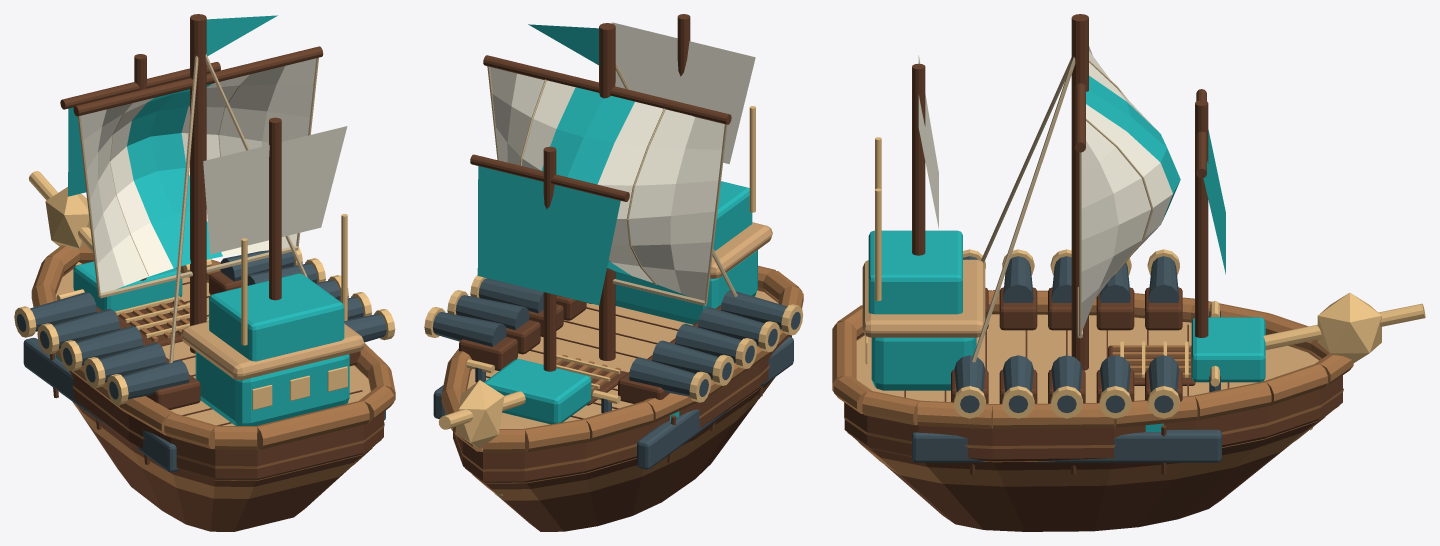
File: ship-stage-5.glb
3 renders of one model, left to right at view 1: azimuth 30°, elevation 25°; view 2: azimuth 150°, elevation 25°; view 3: azimuth 270°, elevation 25°, orthographic. The views are drawn at different scales.
Visible parts, largest first — view 1: Ship Sail ivory.004, Ship Walnut.004, Ship Team teal.004, Ship Hull amber.004, Ship Brass.004, Ship Honey teak.004, Ship Rope flax.004, Ship Cannon iron.004, Broadside barrel.020, Broadside barrel.021, Broadside barrel.023, Broadside barrel.024 (+8 smaller); view 2: Ship Sail ivory.004, Ship Walnut.004, Ship Team teal.004, Ship Hull amber.004, Ship Honey teak.004, Ship Brass.004, Ship Cannon iron.004, Ship Rope flax.004, Broadside barrel.029, Broadside barrel.028, Broadside barrel.024, Broadside barrel.022 (+8 smaller); view 3: Ship Walnut.004, Ship Hull amber.004, Ship Team teal.004, Ship Sail ivory.004, Ship Honey teak.004, Ship Brass.004, Ship Cannon iron.004, Ship Rope flax.004, Broadside barrel.024, Broadside barrel.021, Cannon carriage.021, Cannon carriage.023 (+9 smaller).
Boxes of the visible parts, x1,y1,x2,y2 form: Ship Sail ivory.004: [80, 58, 347, 292]; Ship Walnut.004: [49, 14, 383, 531]; Ship Team teal.004: [56, 15, 349, 425]; Ship Hull amber.004: [31, 245, 395, 498]; Ship Brass.004: [28, 171, 347, 432]; Ship Honey teak.004: [56, 263, 370, 425]; Ship Rope flax.004: [77, 53, 318, 363]; Ship Cannon iron.004: [23, 337, 385, 472]; Broadside barrel.020: [122, 359, 189, 399]; Broadside barrel.021: [99, 342, 166, 382]; Broadside barrel.023: [53, 309, 120, 348]; Broadside barrel.024: [30, 292, 96, 331]; Ship Sail ivory.004: [490, 22, 755, 300]; Ship Walnut.004: [453, 14, 791, 531]; Ship Team teal.004: [477, 24, 757, 424]; Ship Hull amber.004: [441, 265, 803, 500]; Ship Honey teak.004: [467, 222, 778, 428]; Ship Brass.004: [438, 106, 755, 496]; Ship Cannon iron.004: [433, 336, 793, 469]; Ship Rope flax.004: [487, 61, 737, 305]; Broadside barrel.029: [432, 312, 506, 346]; Broadside barrel.028: [455, 295, 529, 329]; Broadside barrel.024: [629, 357, 695, 396]; Broadside barrel.022: [675, 323, 741, 363]; Ship Walnut.004: [844, 14, 1342, 531]; Ship Hull amber.004: [832, 290, 1353, 486]; Ship Team teal.004: [868, 129, 1265, 431]; Ship Sail ivory.004: [918, 46, 1180, 331]; Ship Honey teak.004: [856, 259, 1318, 403]; Ship Brass.004: [865, 137, 1425, 430]; Ship Cannon iron.004: [912, 310, 1221, 462]; Ship Rope flax.004: [972, 57, 1153, 362]; Broadside barrel.024: [1148, 256, 1179, 302]; Broadside barrel.021: [1003, 256, 1033, 302]; Cannon carriage.021: [999, 287, 1037, 330]; Cannon carriage.023: [1096, 287, 1134, 330].
Size of the model in its own units: 3.31 by 5.29 by 5.9.
